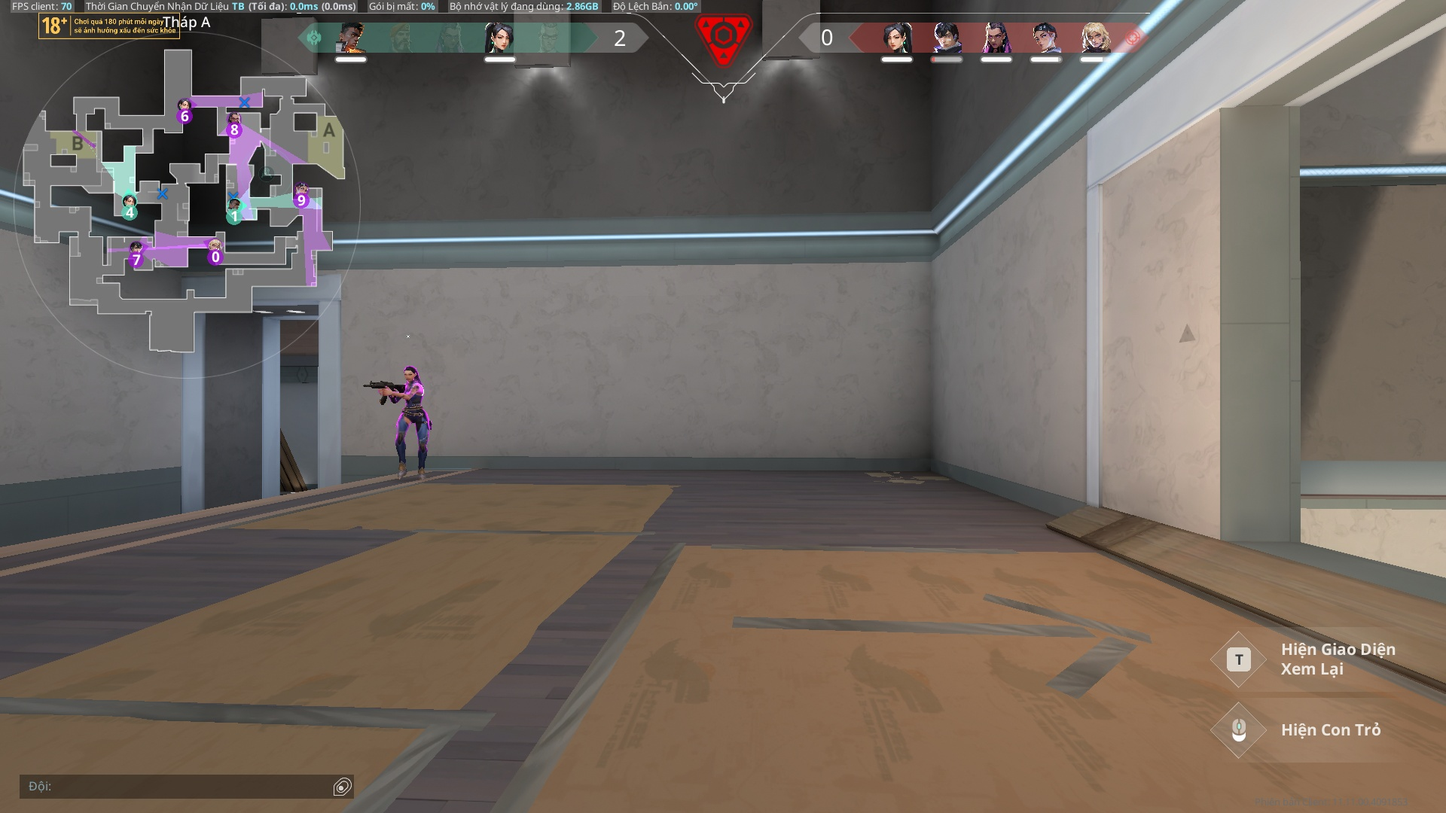body: (402, 382, 424, 412)
head: (403, 364, 416, 381)
